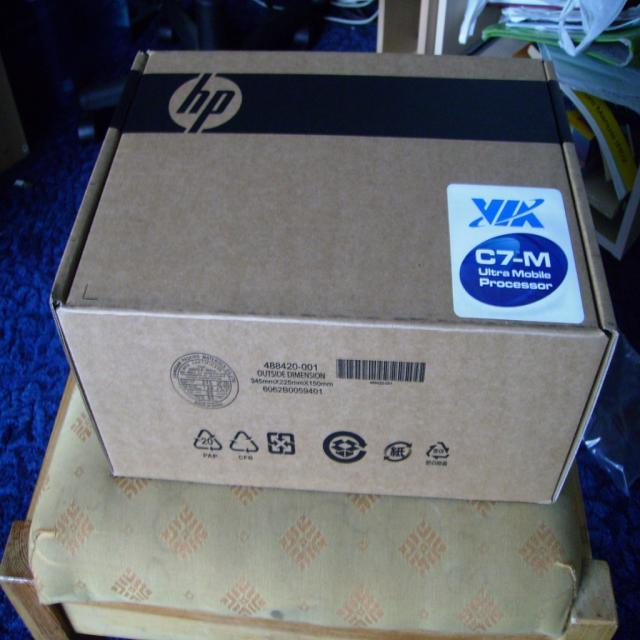HP: (168, 70, 246, 141)
